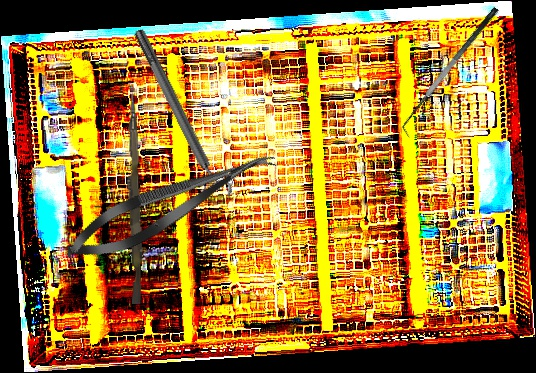Fixation Ring: (125, 23, 237, 207)
Micro Scissor: (57, 135, 284, 274)
Pusher: (121, 93, 147, 305)
Spatula Surgical: (394, 6, 509, 138)
